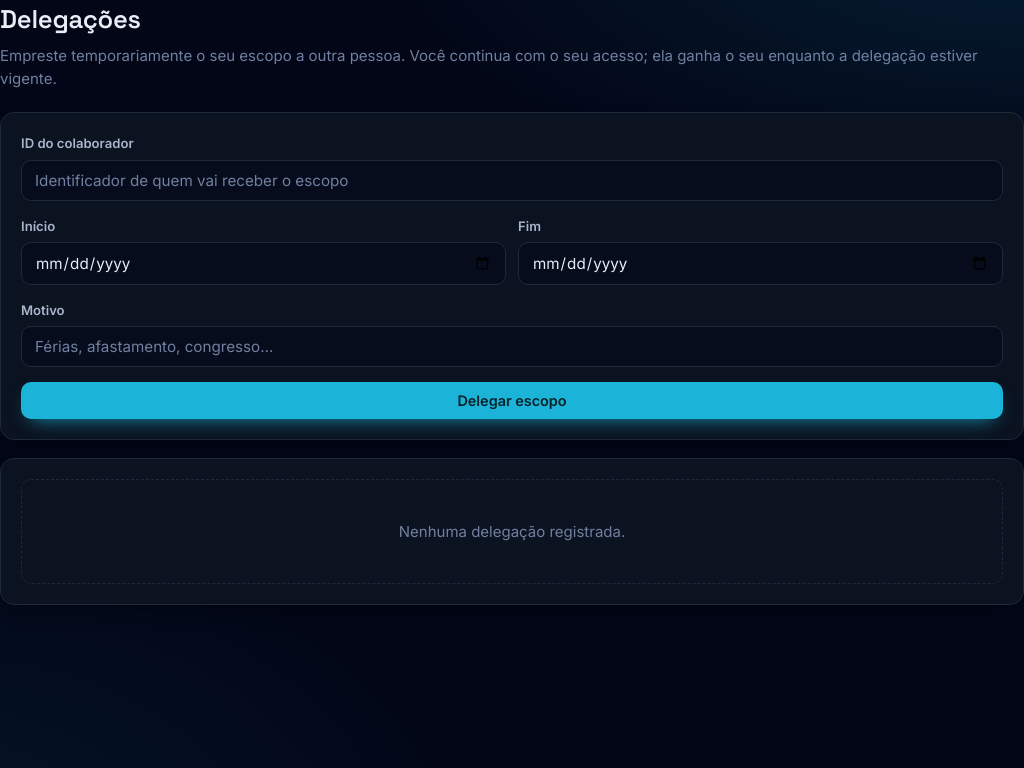
Test case: PaginaDelegacoes › envia POST /delegacoes com os dados do formulario e recarrega
Expected: the text "Nenhuma delegação registrada." is shown, [21, 479, 1003, 584]
Step 1. Type "u2" into the field labelled "ID do colaborador" → (512, 180), box [21, 160, 1003, 200]
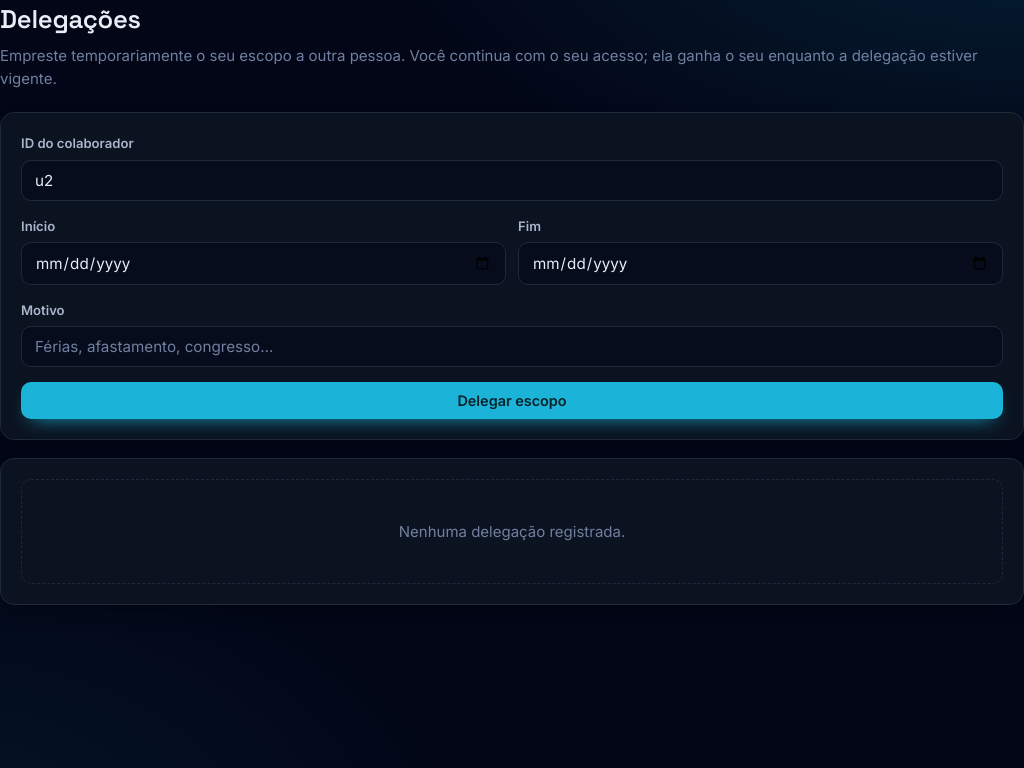
Step 2. Type "2026-07-01" into the date field labelled "Início" → (264, 263), box [21, 242, 506, 285]
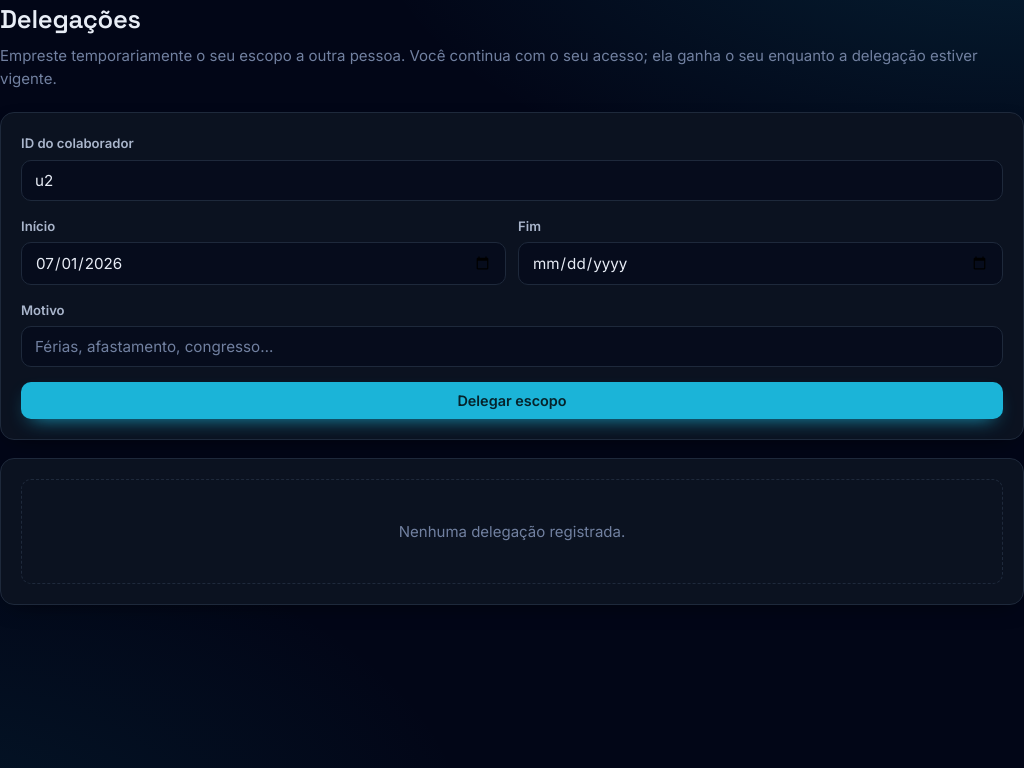
Step 3. Type "2026-07-10" into the date field labelled "Fim" → (760, 263), box [518, 242, 1003, 285]
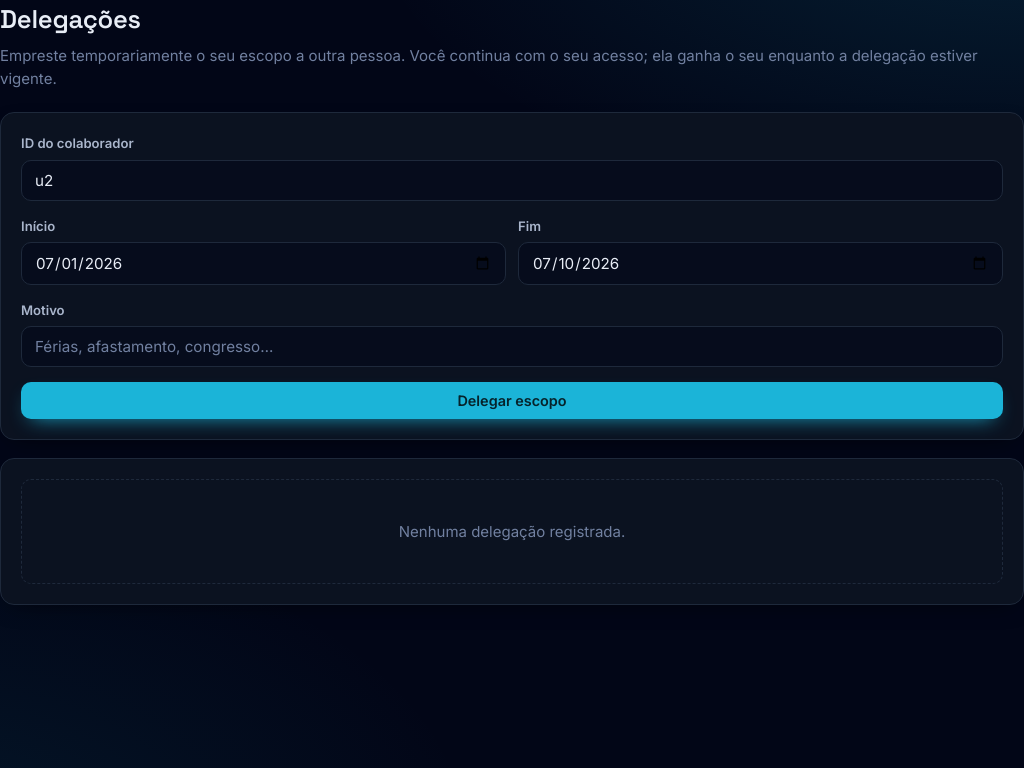
Step 4. Type "ferias" into the field labelled "Motivo" → (512, 347), box [21, 326, 1003, 367]
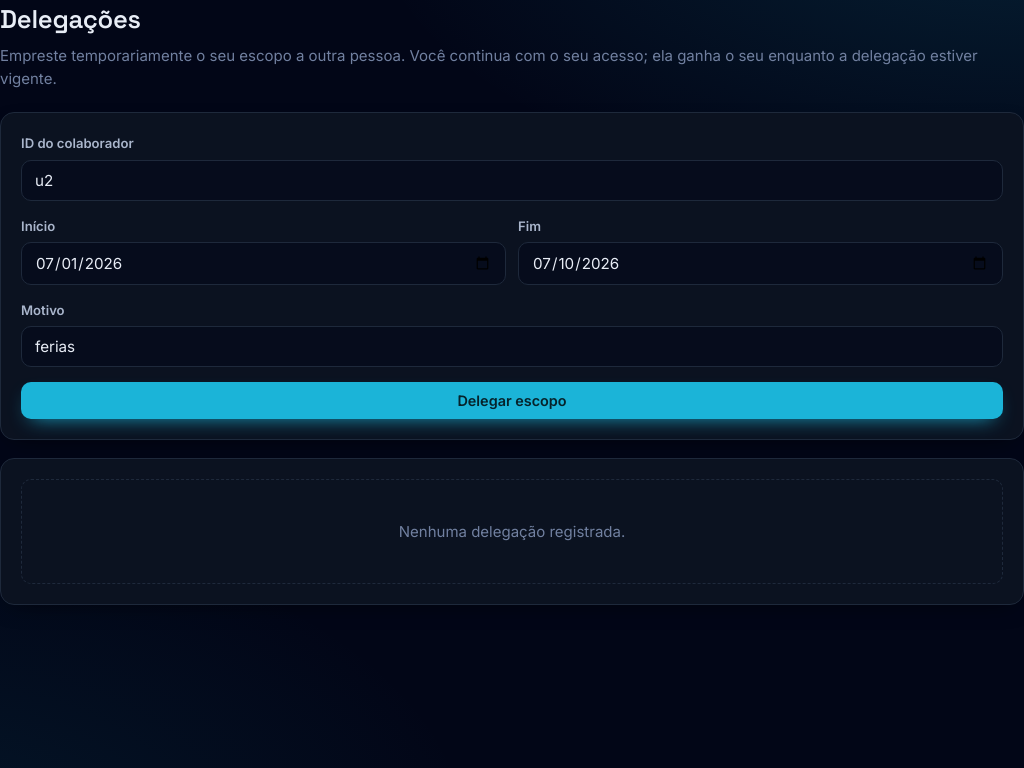
Step 5. Click the button "Delegar escopo" → (512, 401), box [21, 382, 1003, 419]
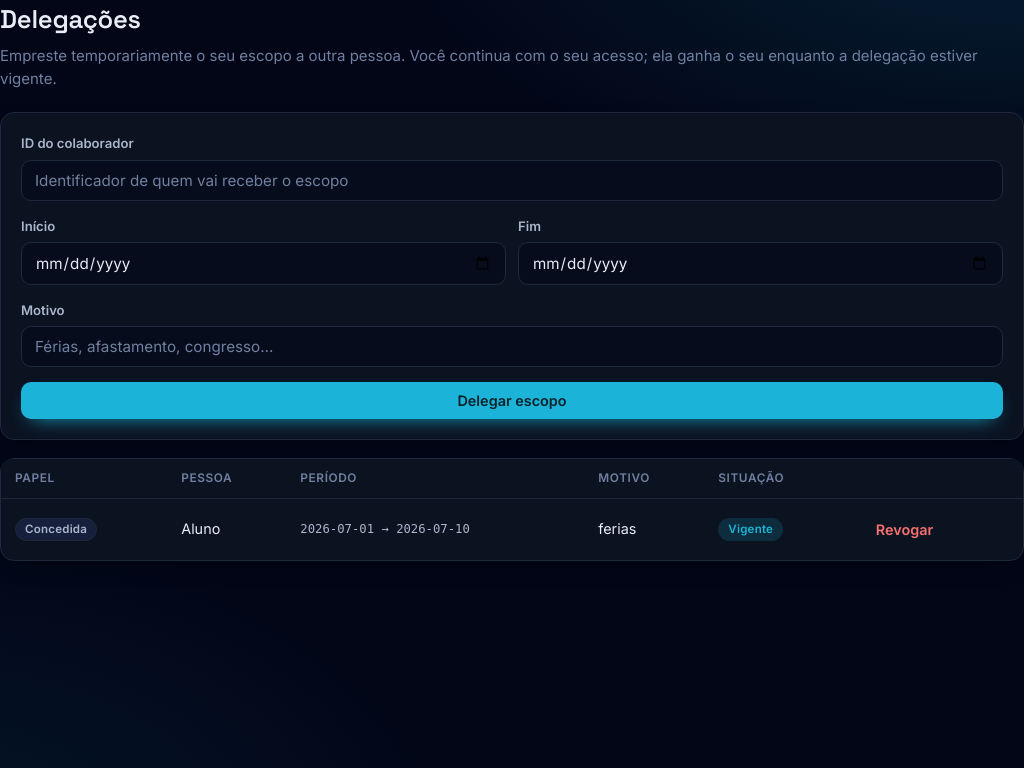
Result: the text "Aluno" is shown at [167, 498, 286, 560]
